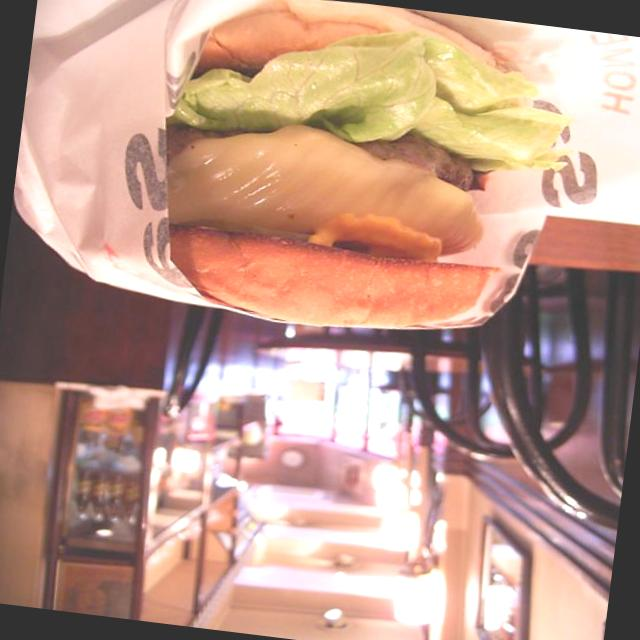Hamburger: (15, 0, 640, 372)
